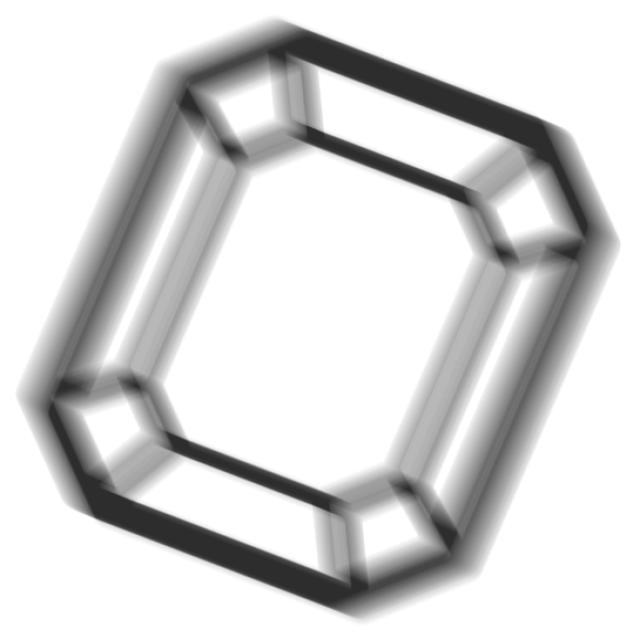emerald: (7, 8, 631, 634)
